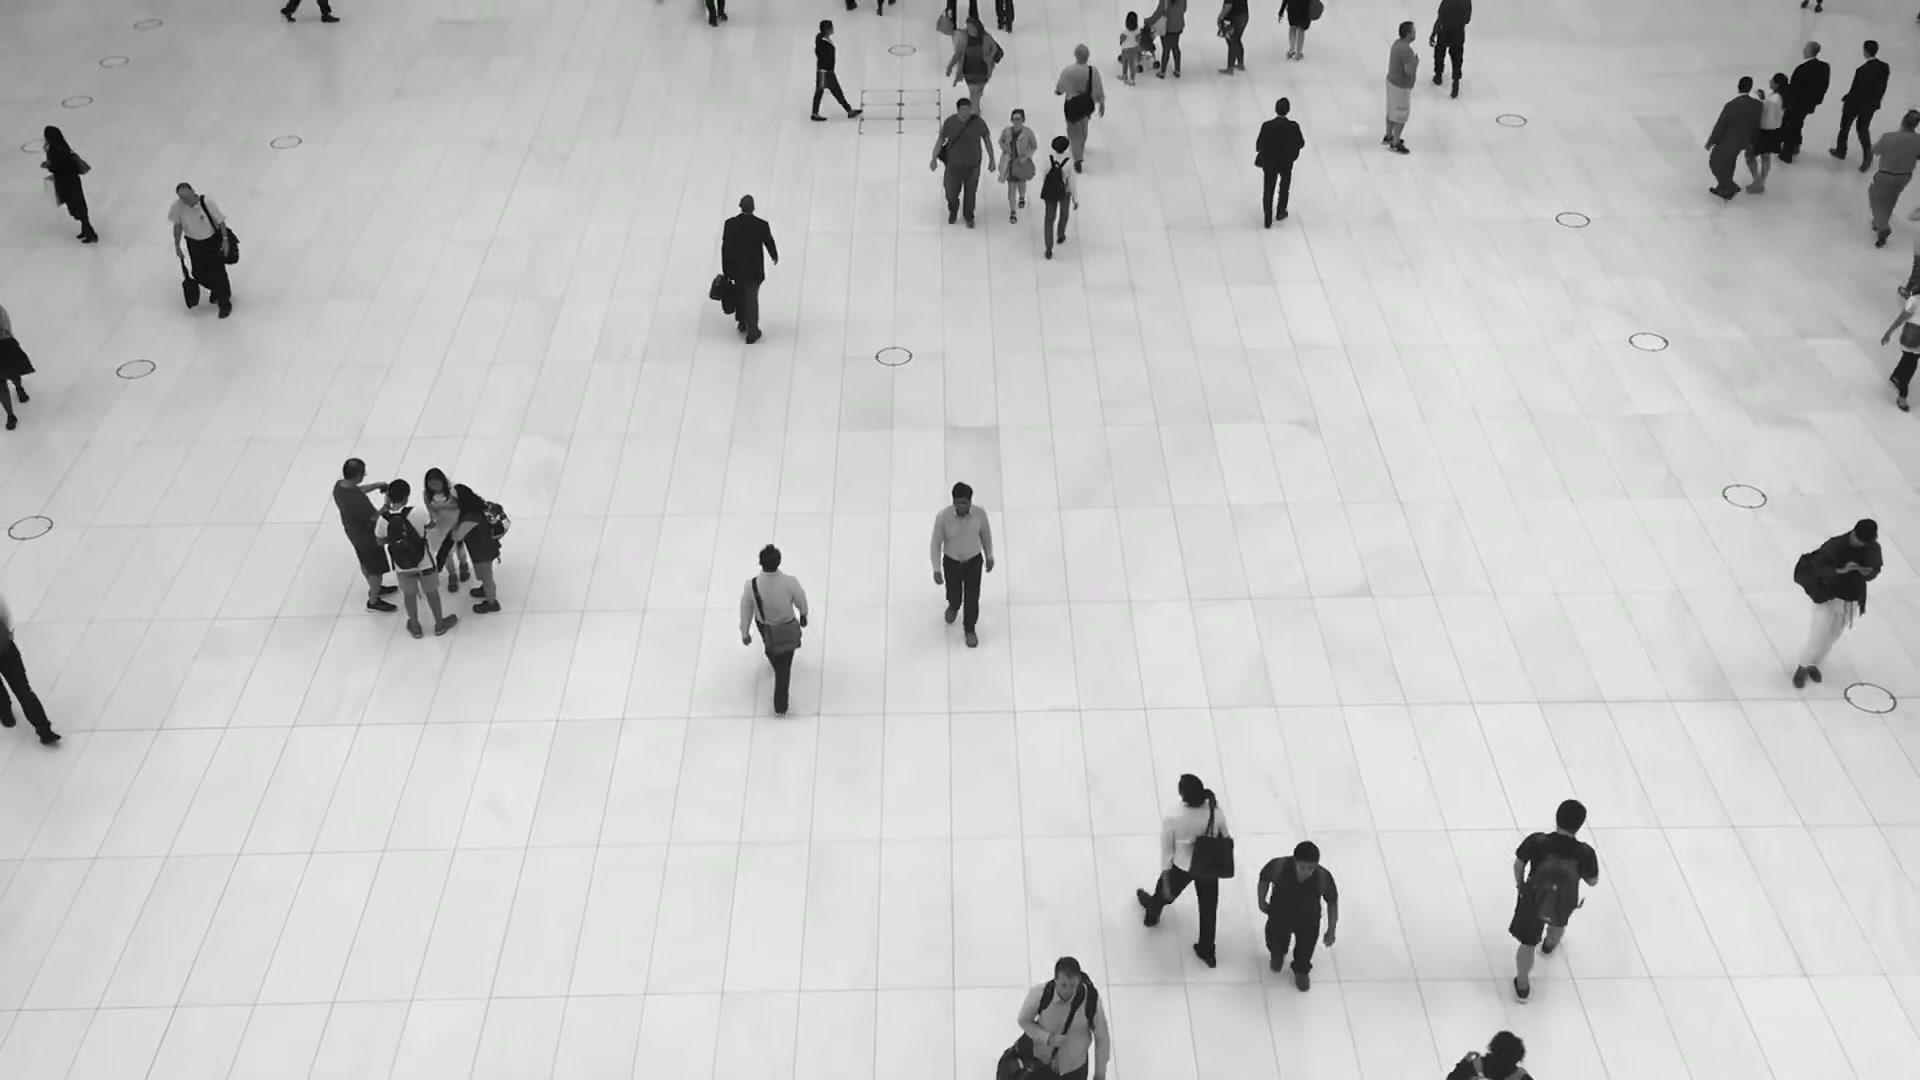person: (1509, 794, 1601, 991), (1790, 520, 1883, 694), (1148, 767, 1229, 953), (1256, 844, 1340, 1002), (376, 477, 460, 635), (736, 541, 811, 714), (926, 482, 996, 659), (1015, 961, 1112, 1080), (333, 457, 399, 610), (165, 183, 233, 324), (719, 192, 779, 343), (930, 98, 994, 232), (1694, 77, 1760, 207), (1828, 38, 1891, 173), (1863, 107, 1920, 244), (1251, 95, 1306, 227), (41, 124, 99, 244), (449, 483, 501, 615), (1052, 42, 1105, 172), (422, 467, 469, 593), (1739, 72, 1787, 196), (1380, 19, 1420, 154), (1786, 39, 1829, 162), (1037, 135, 1078, 260), (997, 109, 1038, 226), (949, 16, 997, 114), (813, 18, 855, 122), (1428, 0, 1473, 94), (1115, 10, 1141, 85)
